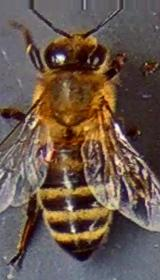varroa_mite: (23, 138, 68, 168)
